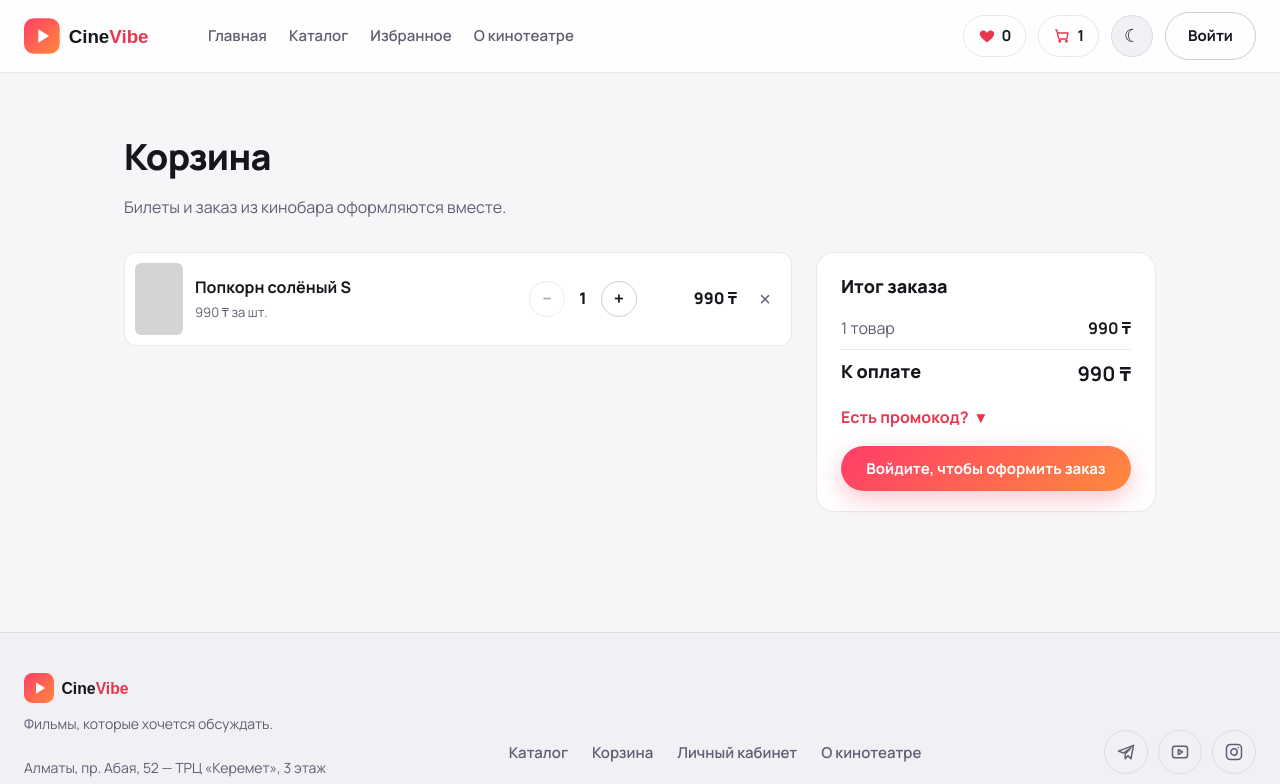
Test: Корзина /cart › последний товар удалён → «Корзина пуста»
Click the button named "Удалить «Попкорн солёный S»" at (765, 299), box [749,283,781,315]
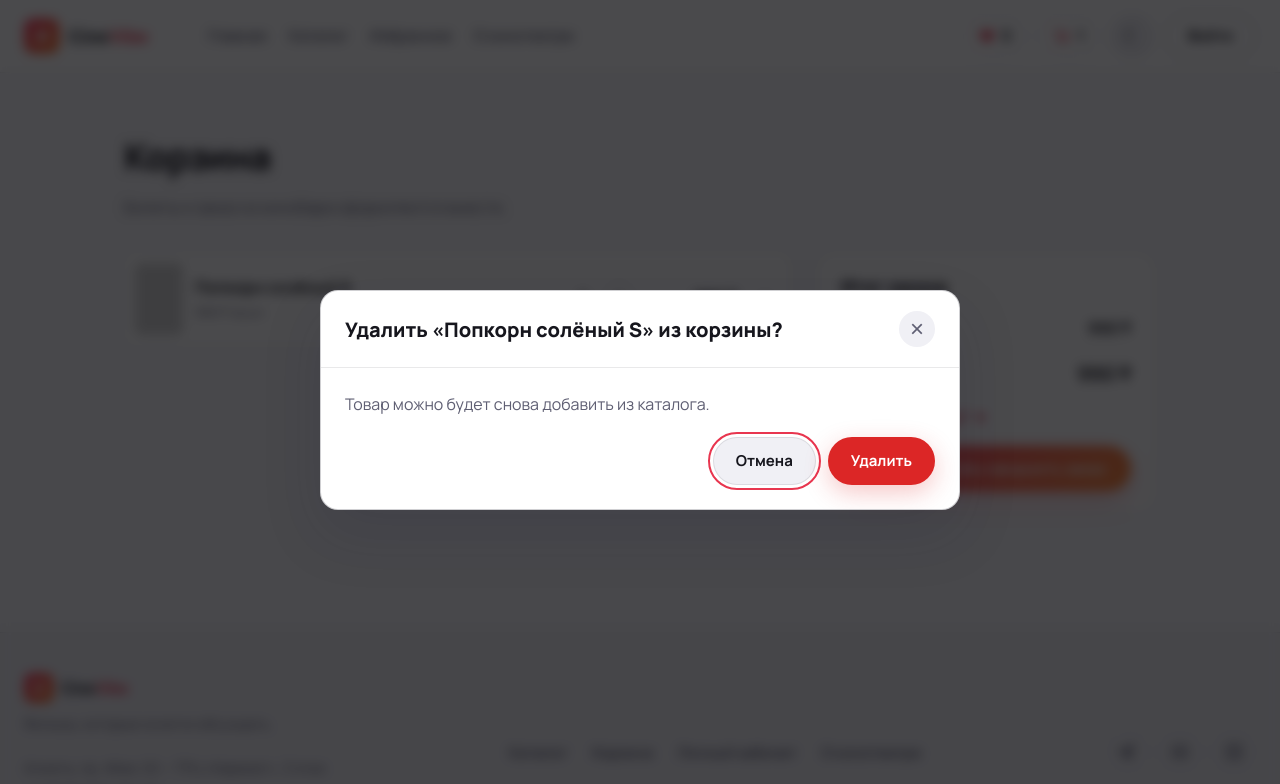
Click the button "Удалить" at (881, 461), box [828,437,935,485]
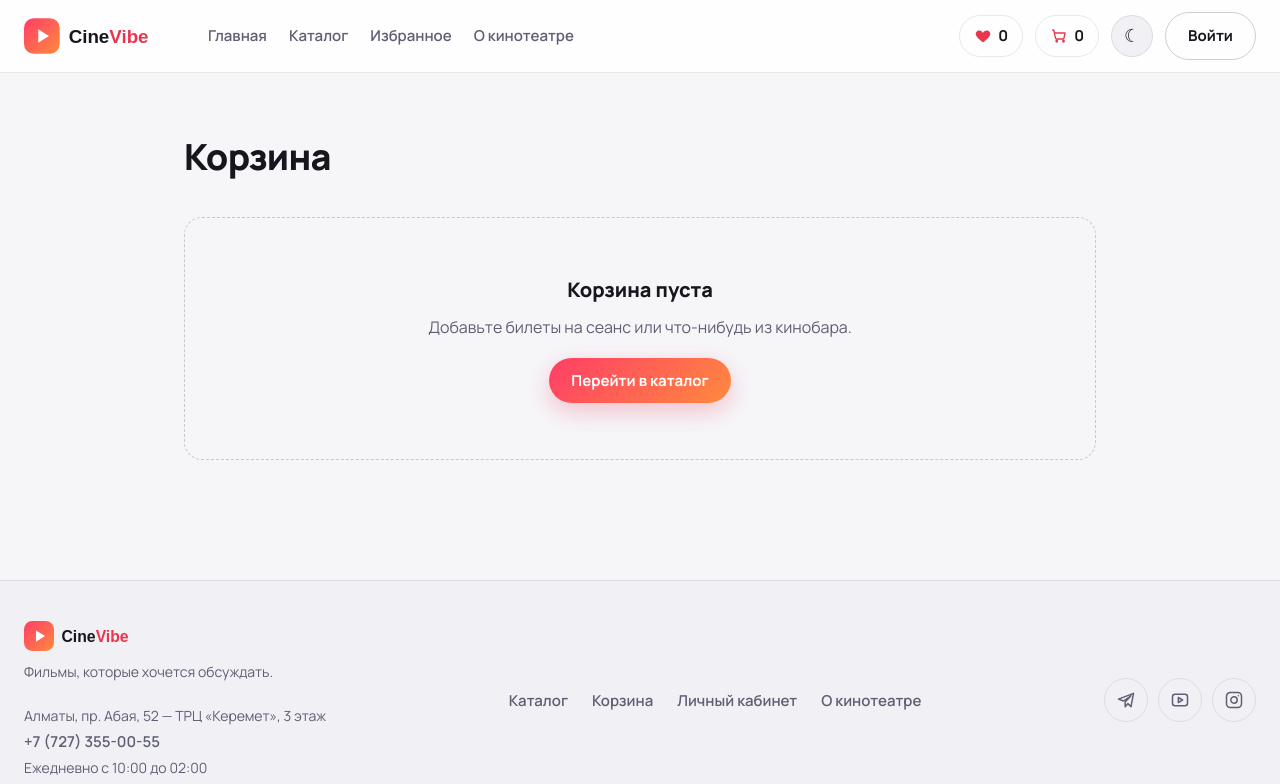
Result: the text "Корзина пуста" is shown at [567,274,713,305]
